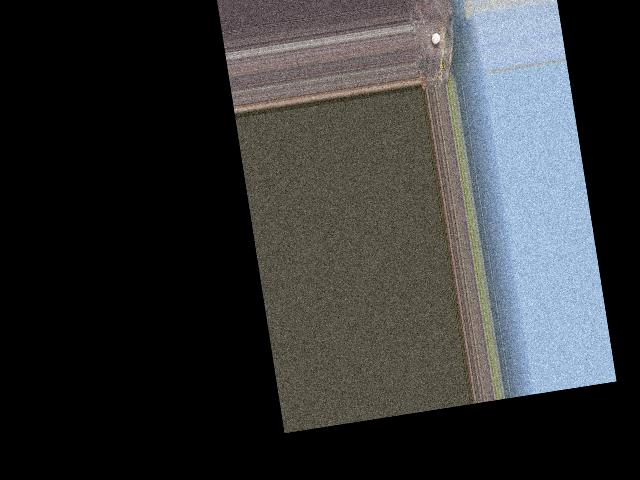egg: (430, 31, 441, 44)
